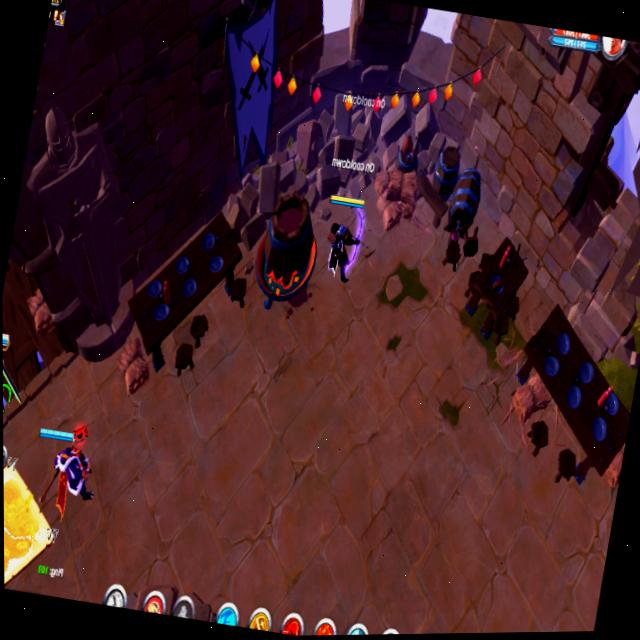red: (29, 413, 105, 511), (313, 189, 370, 290), (2, 325, 23, 422)
